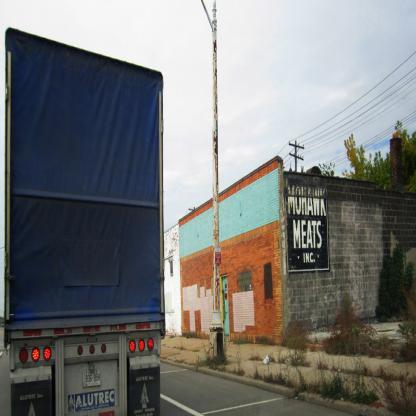truck: (0, 34, 172, 410)
